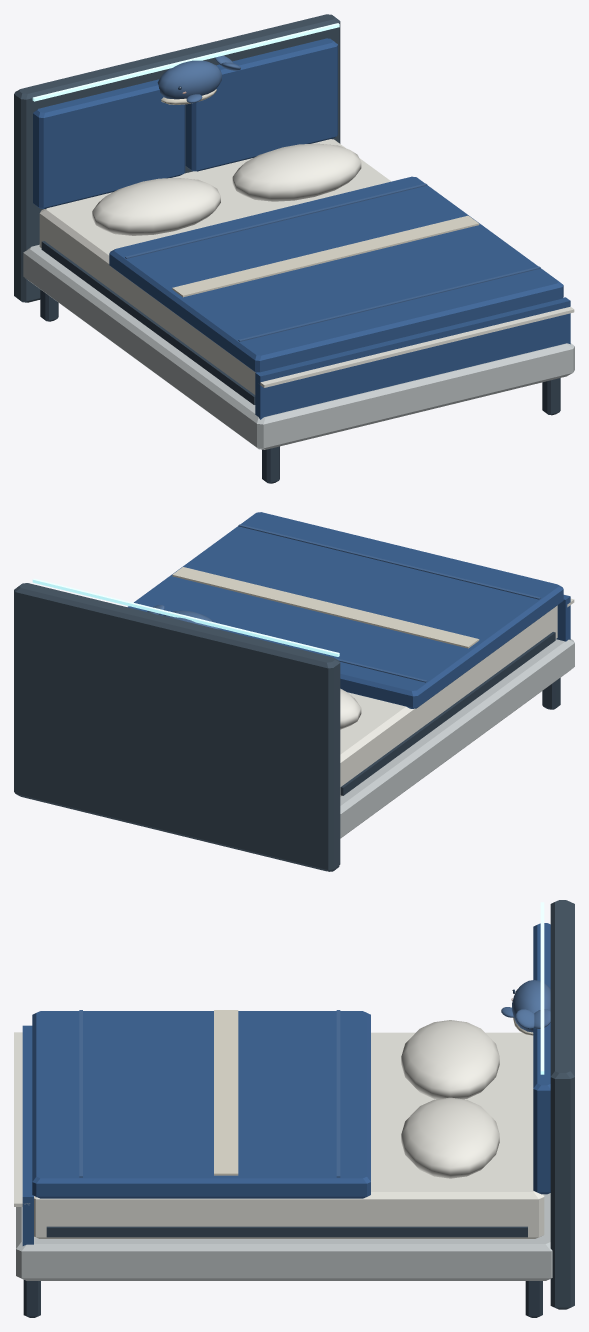
File: v18_interior_whale_bed.glb
The picture shows the model from 3 angles, top to bottom: view 1: azimuth 30°, elevation 25°; view 2: azimuth 150°, elevation 25°; view 3: azimuth 270°, elevation 25°; orthographic projection. The views are drawn at different scales.
Visible parts, largest first — view 1: _MeshInstance3D_4562, _MeshInstance3D_4555, _MeshInstance3D_4558, _MeshInstance3D_4559, _MeshInstance3D_4568, _MeshInstance3D_4556, _MeshInstance3D_4557, _MeshInstance3D_4561, _MeshInstance3D_4560, _MeshInstance3D_4582, _MeshInstance3D_4566, _MeshInstance3D_4569 (+6 smaller); view 2: _MeshInstance3D_4557, _MeshInstance3D_4562, _MeshInstance3D_4555, _MeshInstance3D_4556, _MeshInstance3D_4582, _MeshInstance3D_4566, _MeshInstance3D_4565, _MeshInstance3D_4564, _MeshInstance3D_4560, _MeshInstance3D_4568, _MeshInstance3D_4552; view 3: _MeshInstance3D_4562, _MeshInstance3D_4556, _MeshInstance3D_4555, _MeshInstance3D_4557, _MeshInstance3D_4561, _MeshInstance3D_4560, _MeshInstance3D_4567, _MeshInstance3D_4582, _MeshInstance3D_4559, _MeshInstance3D_4568, _MeshInstance3D_4569, _MeshInstance3D_4570 (+6 smaller).
Boxes of the visible parts, x1,y1,x2,y2 form: _MeshInstance3D_4562: (109,176,563,372); _MeshInstance3D_4555: (23,244,574,449); _MeshInstance3D_4558: (33,79,185,208); _MeshInstance3D_4559: (185,38,337,171); _MeshInstance3D_4568: (255,297,570,419); _MeshInstance3D_4556: (39,139,391,394); _MeshInstance3D_4557: (14,14,340,302); _MeshInstance3D_4561: (232,143,361,201); _MeshInstance3D_4560: (92,178,220,235); _MeshInstance3D_4582: (172,215,479,297); _MeshInstance3D_4566: (41,241,255,404); _MeshInstance3D_4569: (260,306,574,387); _MeshInstance3D_4557: (14,583,340,871); _MeshInstance3D_4562: (127,512,563,708); _MeshInstance3D_4555: (340,639,574,838); _MeshInstance3D_4556: (340,605,557,796); _MeshInstance3D_4582: (172,567,479,648); _MeshInstance3D_4566: (340,632,555,795); _MeshInstance3D_4565: (32,578,339,656); _MeshInstance3D_4564: (238,524,540,599); _MeshInstance3D_4560: (340,688,361,729); _MeshInstance3D_4568: (556,595,570,641); _MeshInstance3D_4552: (542,678,560,709); _MeshInstance3D_4562: (32,1011,370,1198); _MeshInstance3D_4556: (34,1032,544,1238); _MeshInstance3D_4555: (16,1193,552,1280); _MeshInstance3D_4557: (550,900,574,1309); _MeshInstance3D_4561: (401,1097,499,1178); _MeshInstance3D_4560: (401,1020,499,1099); _MeshInstance3D_4567: (46,1226,527,1237); _MeshInstance3D_4582: (214,1010,238,1175); _MeshInstance3D_4559: (533,1023,550,1194); _MeshInstance3D_4568: (22,1025,33,1245); _MeshInstance3D_4569: (14,1032,29,1206); _MeshInstance3D_4570: (512,980,550,1032).
Bounding box in the file's own units: 2.03 × 1.35 × 2.73.
